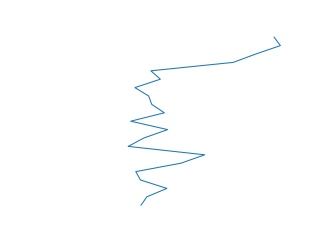crevasseRiverChannelBar: (129, 32, 287, 209)
